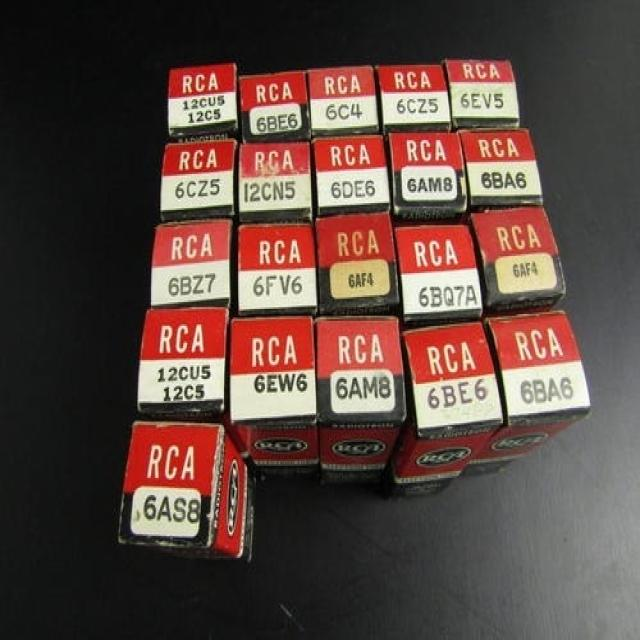box: (459, 310, 590, 477), (389, 321, 503, 496), (119, 421, 255, 561), (315, 315, 407, 471), (231, 316, 319, 469), (468, 205, 565, 316), (137, 308, 230, 413), (316, 211, 400, 314), (395, 226, 483, 323), (383, 133, 467, 225), (238, 223, 318, 317), (151, 219, 232, 307), (458, 128, 543, 207), (314, 134, 391, 216), (160, 141, 237, 221), (240, 141, 312, 222), (168, 63, 239, 142), (441, 61, 520, 128), (239, 71, 312, 143), (306, 66, 379, 137), (375, 64, 451, 132)
